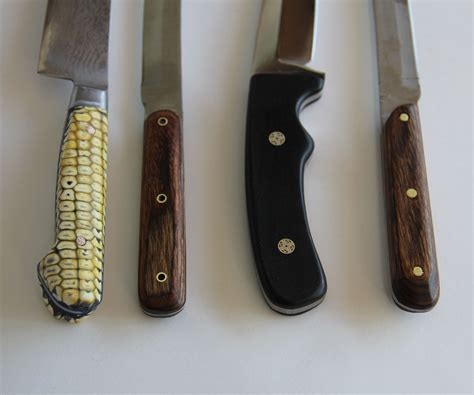knife: (247, 1, 331, 317), (39, 0, 112, 324), (371, 1, 444, 315), (135, 1, 188, 320)
